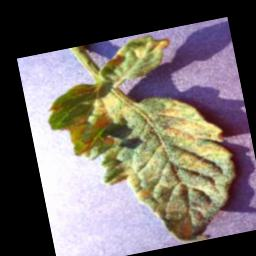Leaf_Mold: (33, 23, 248, 256)
